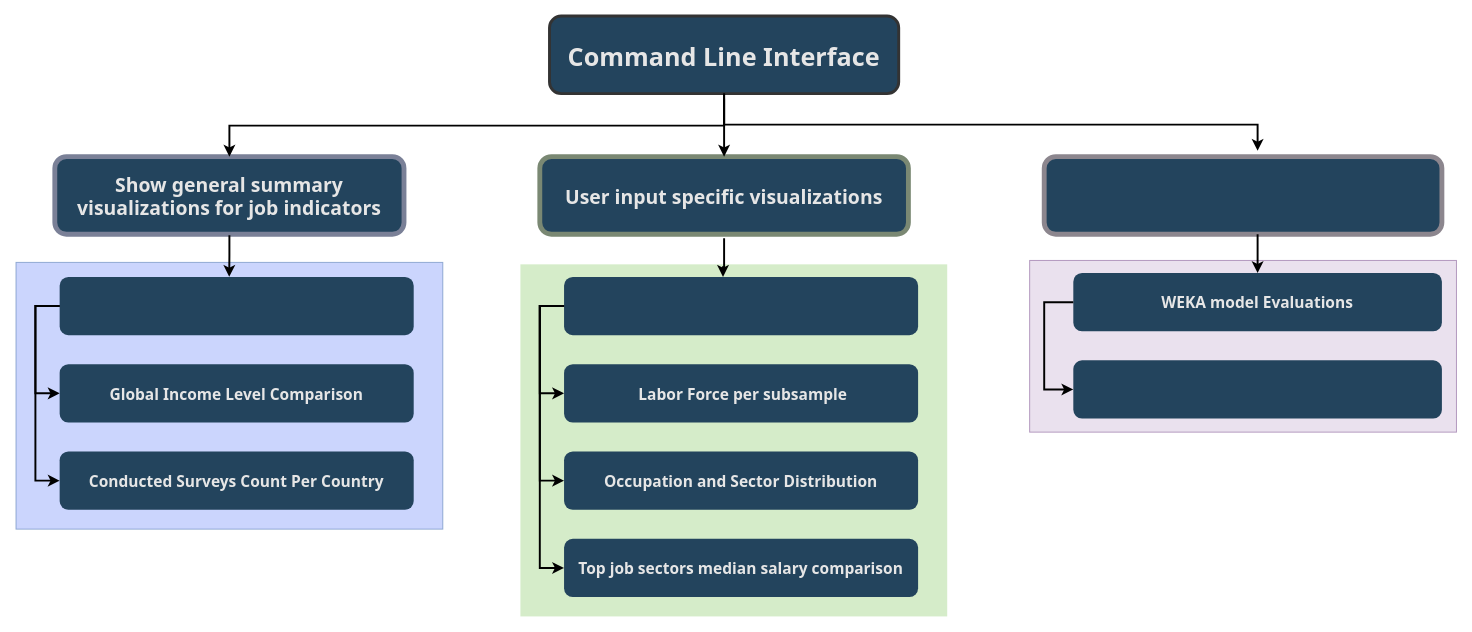
The diagram is 1472 pixels wide and 632 high, and some of its shapes have lost their labels. The centre of each missing label's shape, as x and y in pixels:
"Job indicator surveys summary" goes at [236,305].
"Labor Force and Population per year" goes at [741,305].
"Predictions and insights for future planning" goes at [1242,195].
"Random Forest Classifier" goes at [1257,389].
